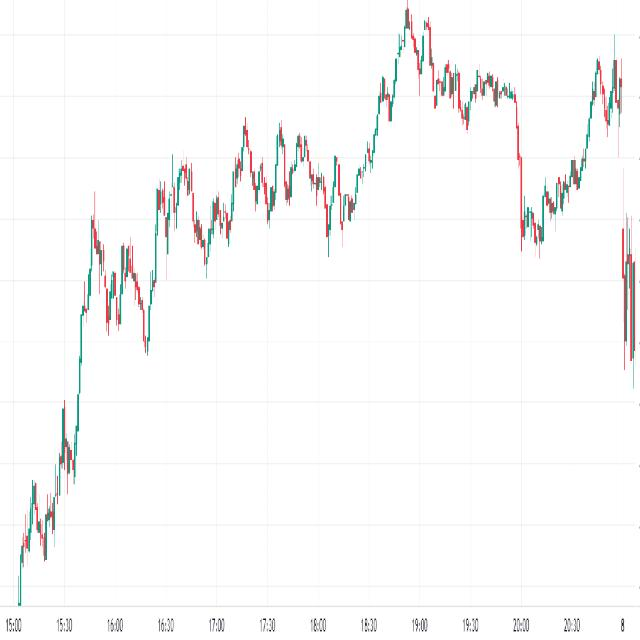Rising-Wedge: (71, 89, 322, 474)
